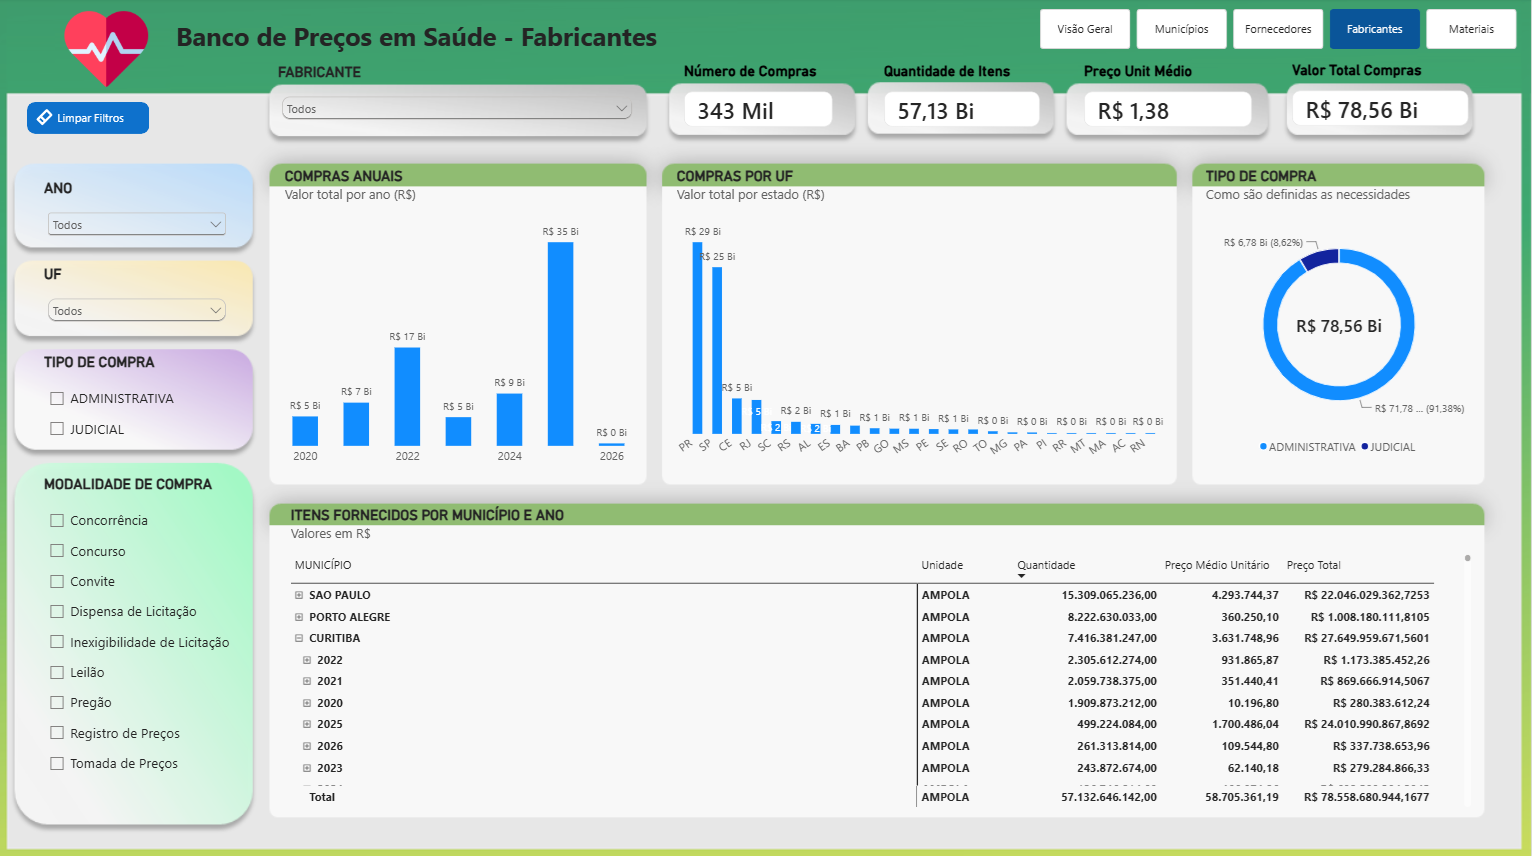

The dashboard page shown, as its layout file describes it:
{"tool":"powerbi","page":{"name":"Fabricantes","canvas":[1920,1080],"ordinal":3},"visuals":[{"type":"pivotTable","title":"ITENS FORNECIDOS POR MUNICÍPIO E ANO","fields":{"Rows":["Dim_municipios.municipio_instituicao","Dim_ano.ano","Dim_materiais.descricao_catmat"],"Values":["Min(Fato_BPS_20_2026.unidade_fornecimento)","Sum(Fato_BPS_20_2026.qtd_itens_comprados)","Sum(Fato_BPS_20_2026.preco_unitario_reais)","Sum(Fato_BPS_20_2026.preco_total_reais)"]},"box":[350,622.9,1511.4,407.1],"z":0},{"type":"slicer","title":"FABRICANTE","fields":{"Values":["Dim_fabricante.fabricante"]},"box":[350,81.2,448.8,80],"z":1000},{"type":"columnChart","title":"COMPRAS ANUAIS","fields":{"Category":["Dim_ano.ano"],"Y":["Sum(Fato_BPS_20_2026.preco_total_reais)"]},"box":[341.4,198.6,467.1,407.1],"z":2000},{"type":"columnChart","title":"COMPRAS POR UF","fields":{"Category":["Dim_municipios.uf"],"Y":["Sum(Fato_BPS_20_2026.preco_total_reais)"]},"box":[832.9,198.6,641.4,407.1],"z":3000},{"type":"donutChart","title":"TIPO DE COMPRA","fields":{"Category":["Dim_tipo_compra.tipo_compra"],"Y":["Sum(Fato_BPS_20_2026.preco_total_reais)"]},"box":[1495.7,198.6,365.7,394.3],"z":4000},{"type":"textbox","box":[221.7,25,901.7,50],"z":5000},{"type":"cardVisual","title":"Número de Compras","fields":{"Data":["_Medidas.Numero de Registros"]},"box":[858.3,80,186.7,81.7],"z":12000},{"type":"cardVisual","title":"Quantidade de Itens","fields":{"Data":["_Medidas.Quantidade Total de Itens"]},"box":[1108.3,80,195,81.7],"z":13000},{"type":"cardVisual","title":"Preço Unit Médio","fields":{"Data":["_Medidas.Preco Unitario Medio Ponderado"]},"box":[1360,80,210,81.7],"z":14000},{"type":"cardVisual","title":"Valor Total Compras","fields":{"Data":["_Medidas.Valor Total Registrado"]},"box":[1619.8,78.9,221.2,81.5],"z":15000},{"type":"image","box":[78.3,11.7,110,105],"z":16000},{"type":"pageNavigator","box":[1304.2,14.2,600,50],"z":16001},{"type":"slicer","title":"TIPO DE COMPRA","fields":{"Values":["Dim_tipo_compra.tipo_compra"]},"box":[56.9,445.1,233.3,118.3],"z":16002},{"type":"slicer","title":"MODALIDADE DE COMPRA","fields":{"Values":["Dim_modalidade_compra.modalidade_compra"]},"box":[56.9,597.7,233.3,393.3],"z":16003},{"type":"slicer","title":"ANO","fields":{"Values":["Dim_ano.ano"]},"box":[56.7,226.7,233.3,125],"z":16004},{"type":"slicer","title":"UF","fields":{"Values":["Dim_municipios.uf"]},"box":[56.9,335.1,233.3,73.3],"z":16005},{"type":"actionButton","box":[35,130,153.3,40],"z":16006}]}

Visuals, with their boxes in screenshot pixels (x1, y1, x2, y2), scaled from the page's 1920x1080 canvas onto the 1532x856 screenshot:
"ITENS FORNECIDOS POR MUNICÍPIO E ANO" pivotTable: region(279, 494, 1485, 816)
"FABRICANTE" slicer: region(279, 64, 637, 128)
"COMPRAS ANUAIS" columnChart: region(272, 157, 645, 480)
"COMPRAS POR UF" columnChart: region(665, 157, 1176, 480)
"TIPO DE COMPRA" donutChart: region(1193, 157, 1485, 470)
textbox: region(177, 20, 896, 59)
"Número de Compras" cardVisual: region(685, 63, 834, 128)
"Quantidade de Itens" cardVisual: region(884, 63, 1040, 128)
"Preço Unit Médio" cardVisual: region(1085, 63, 1253, 128)
"Valor Total Compras" cardVisual: region(1292, 63, 1469, 127)
image: region(62, 9, 150, 92)
pageNavigator: region(1041, 11, 1519, 51)
"TIPO DE COMPRA" slicer: region(45, 353, 232, 447)
"MODALIDADE DE COMPRA" slicer: region(45, 474, 232, 785)
"ANO" slicer: region(45, 180, 231, 279)
"UF" slicer: region(45, 266, 232, 324)
actionButton: region(28, 103, 150, 135)
